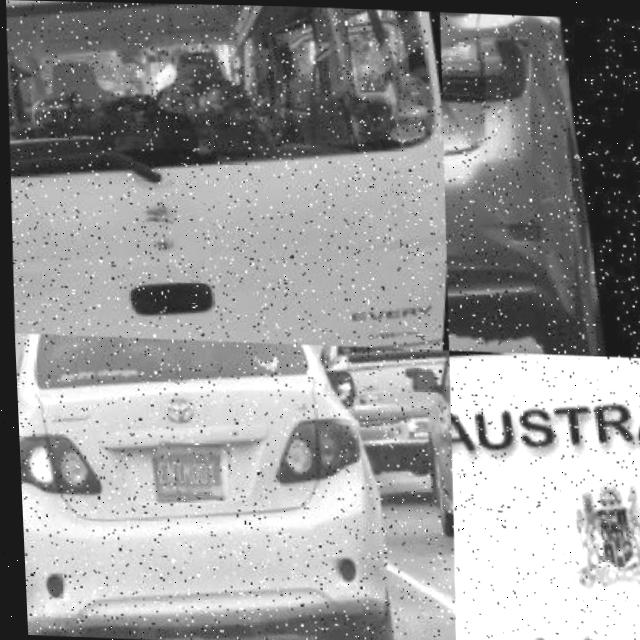LicensePlate: (445, 524, 640, 640), (437, 55, 487, 143), (153, 447, 223, 494)
